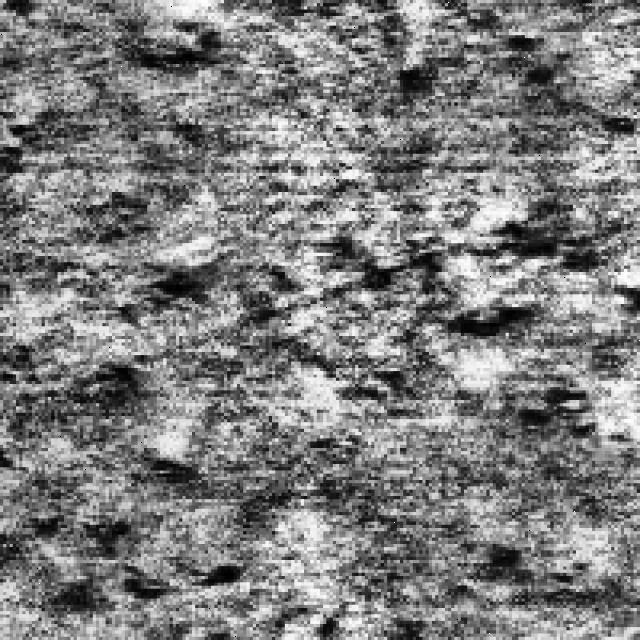Crazing: (355, 186, 608, 374)
